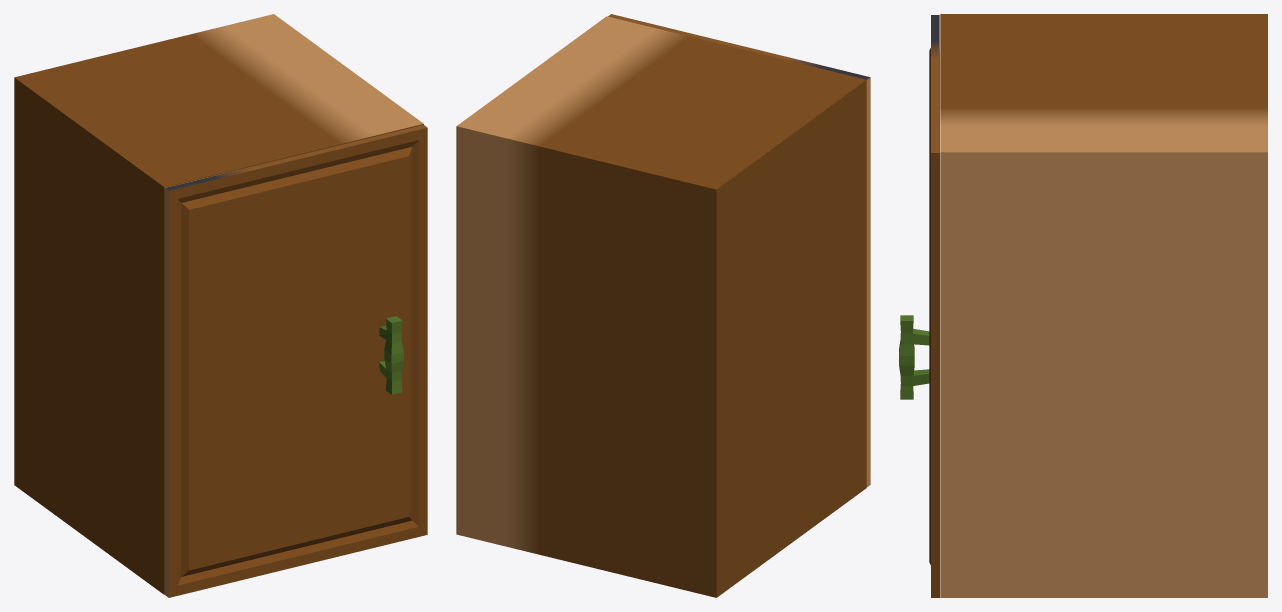
The model's file is KitchenTabletop1_05.fbx.
3 renders of one model, left to right at view 1: azimuth 30°, elevation 25°; view 2: azimuth 150°, elevation 25°; view 3: azimuth 270°, elevation 25°, orthographic. The views are drawn at different scales.
Visible parts, largest first — view 1: KitchenTabletop1_05; view 2: KitchenTabletop1_05; view 3: KitchenTabletop1_05.
Part boxes in pixels (<box>): KitchenTabletop1_05: <box>14,14,427,597</box>; KitchenTabletop1_05: <box>456,14,870,597</box>; KitchenTabletop1_05: <box>899,14,1267,597</box>.
Bounding box in the file's own units: 0.3983 × 0.5976 × 0.4483.
